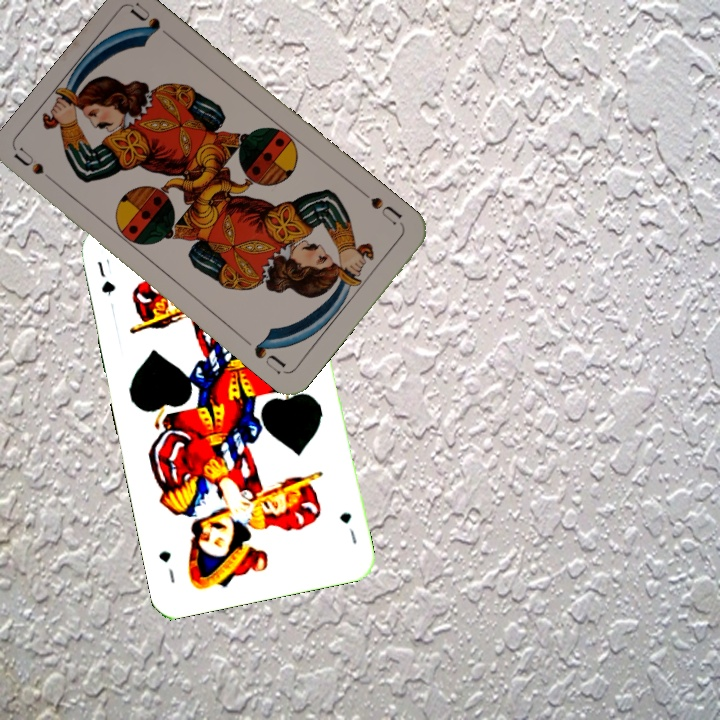GU: (93, 254, 118, 298), (336, 508, 360, 547)
SU: (11, 144, 63, 190), (356, 186, 406, 229)
